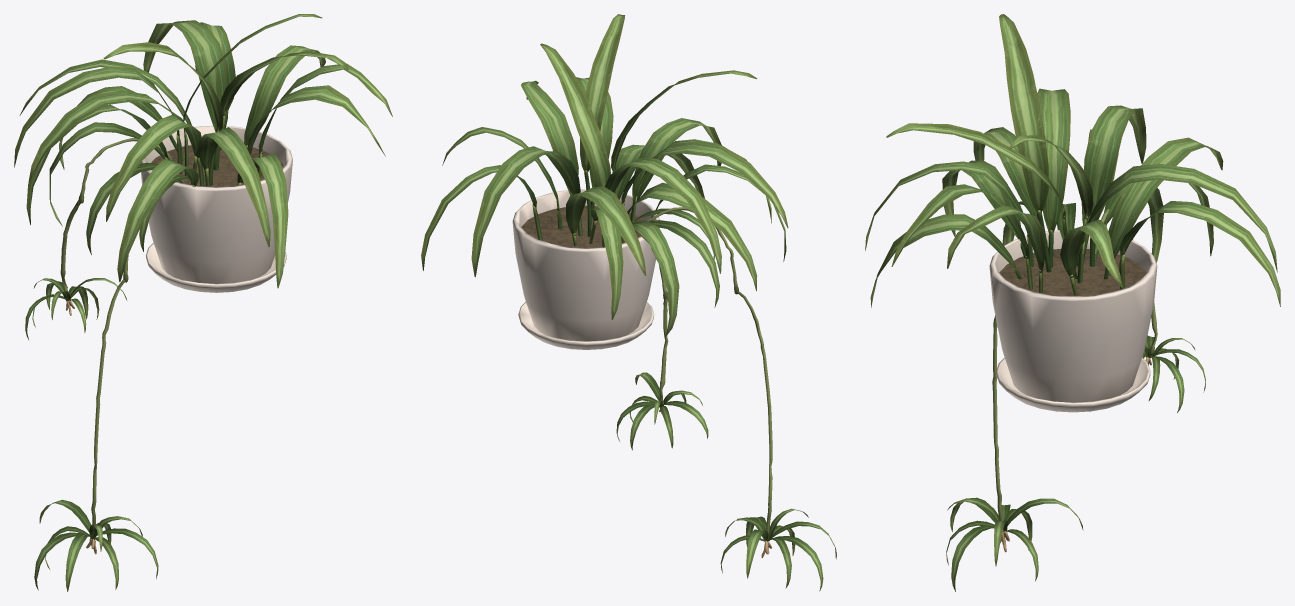
File: spiderPlant.dae
3 views of the same model, side by side, from view 1: azimuth 30°, elevation 25°; view 2: azimuth 150°, elevation 25°; view 3: azimuth 270°, elevation 25° (orthographic). The views are drawn at different scales.
Visible parts, largest first — view 1: SpiderPlant; view 2: SpiderPlant; view 3: SpiderPlant.
Part boxes in pixels (<box>): SpiderPlant: <box>14,14,392,591</box>; SpiderPlant: <box>421,14,836,591</box>; SpiderPlant: <box>865,14,1280,591</box>.
Bounding box in the file's own units: 0.9164 × 0.8853 × 1.34.
1 material, 1 textured.
